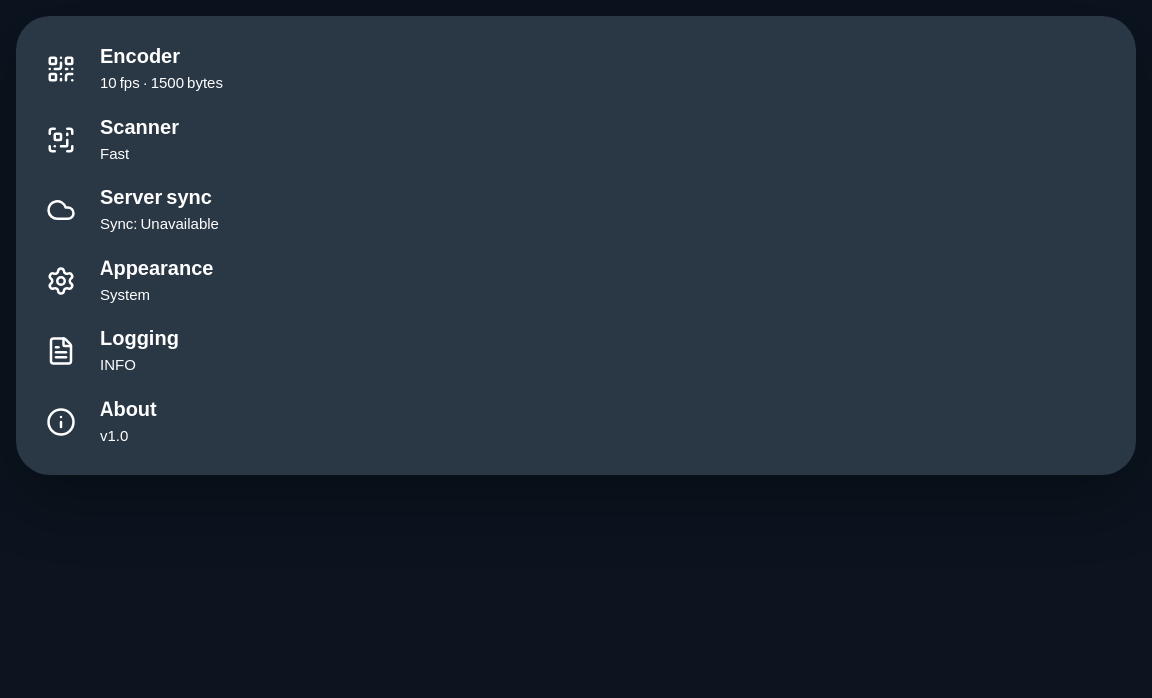
Test: SettingsTab server auth flow › shows external mode for an explicit external sync server URL
What coordinates should you click on to do the following:
click the button "Server sync Sync: Unavailable"
I would click on:
 (61, 210)
Its box is [16, 175, 1136, 246].
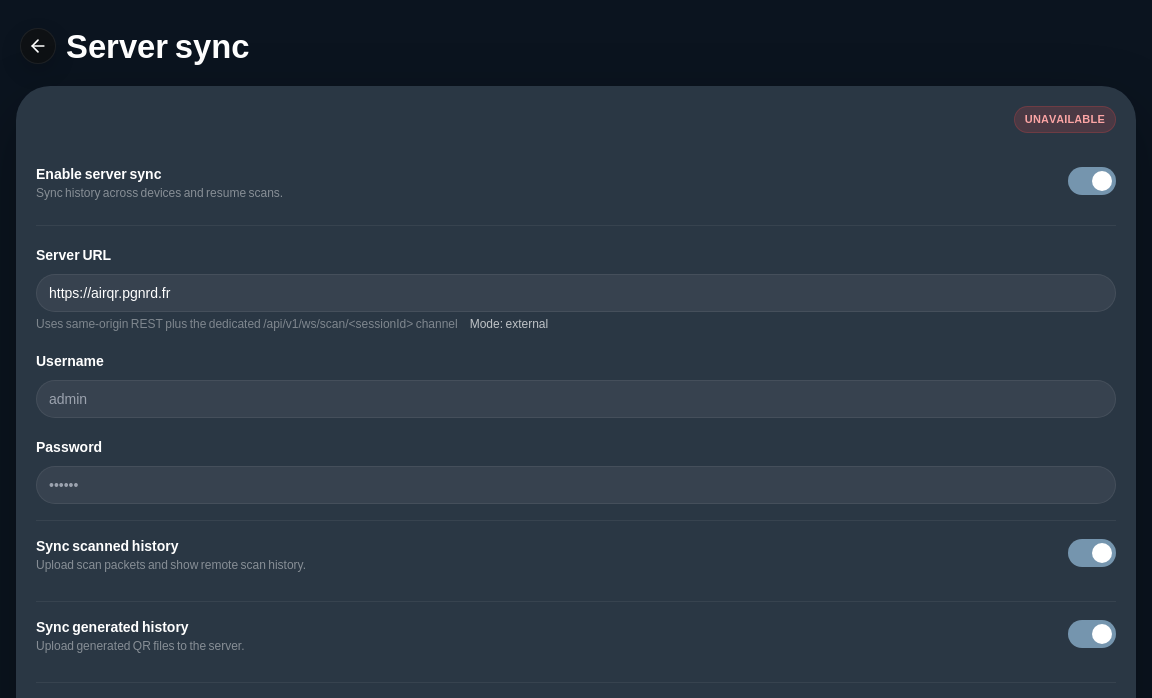
Expected: the text "Unavailable" is shown, [1014, 106, 1116, 132]
Now the text "Mode: external" is shown, box [470, 316, 548, 332]
